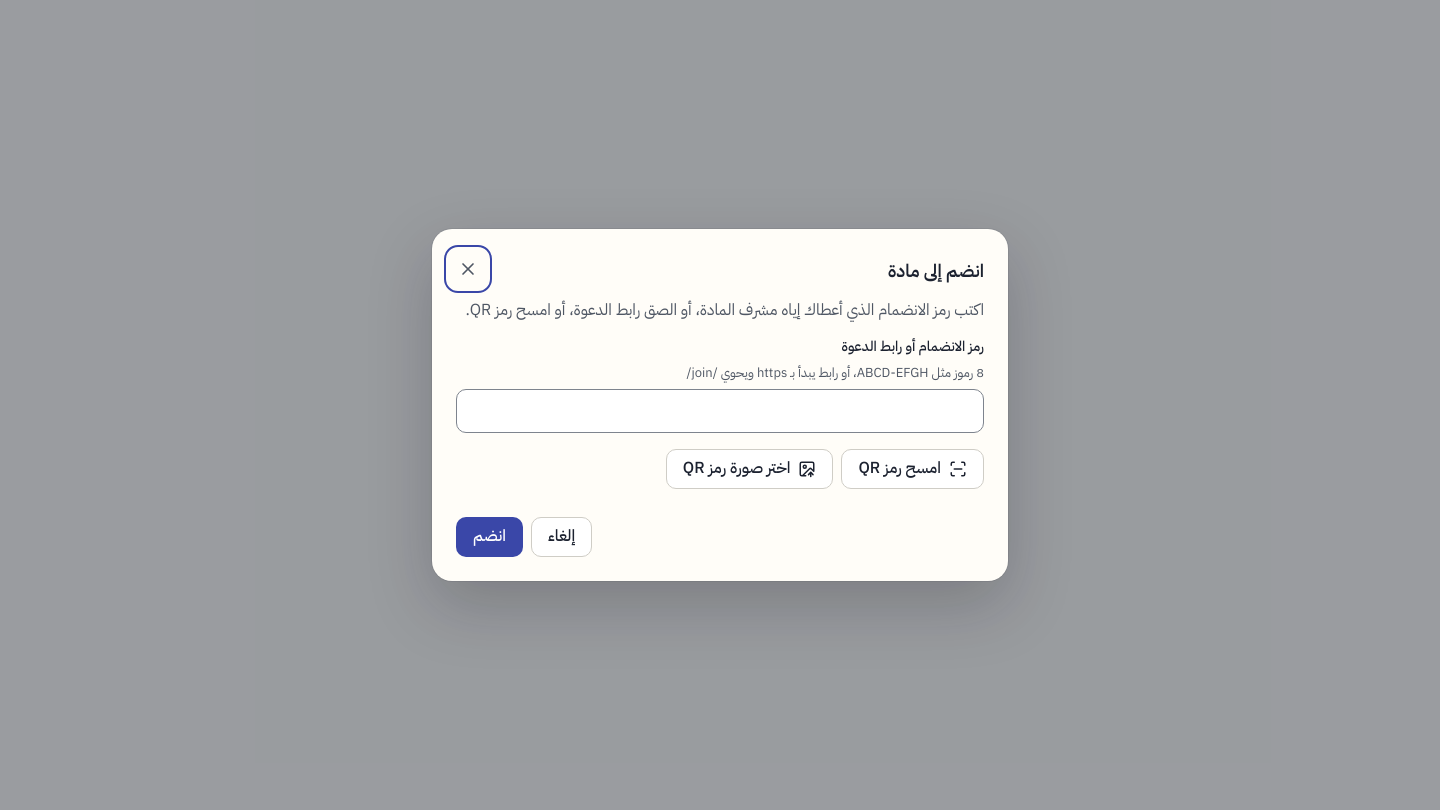
«انضم برمز أو QR» › joins with a typed class code (normalised) and says the request waits for an approver
Type "ab12-cd34" into the field labelled "رمز الانضمام أو رابط الدعوة".
click(720, 411); type("ab12-cd34")  # box [456,389,984,433]
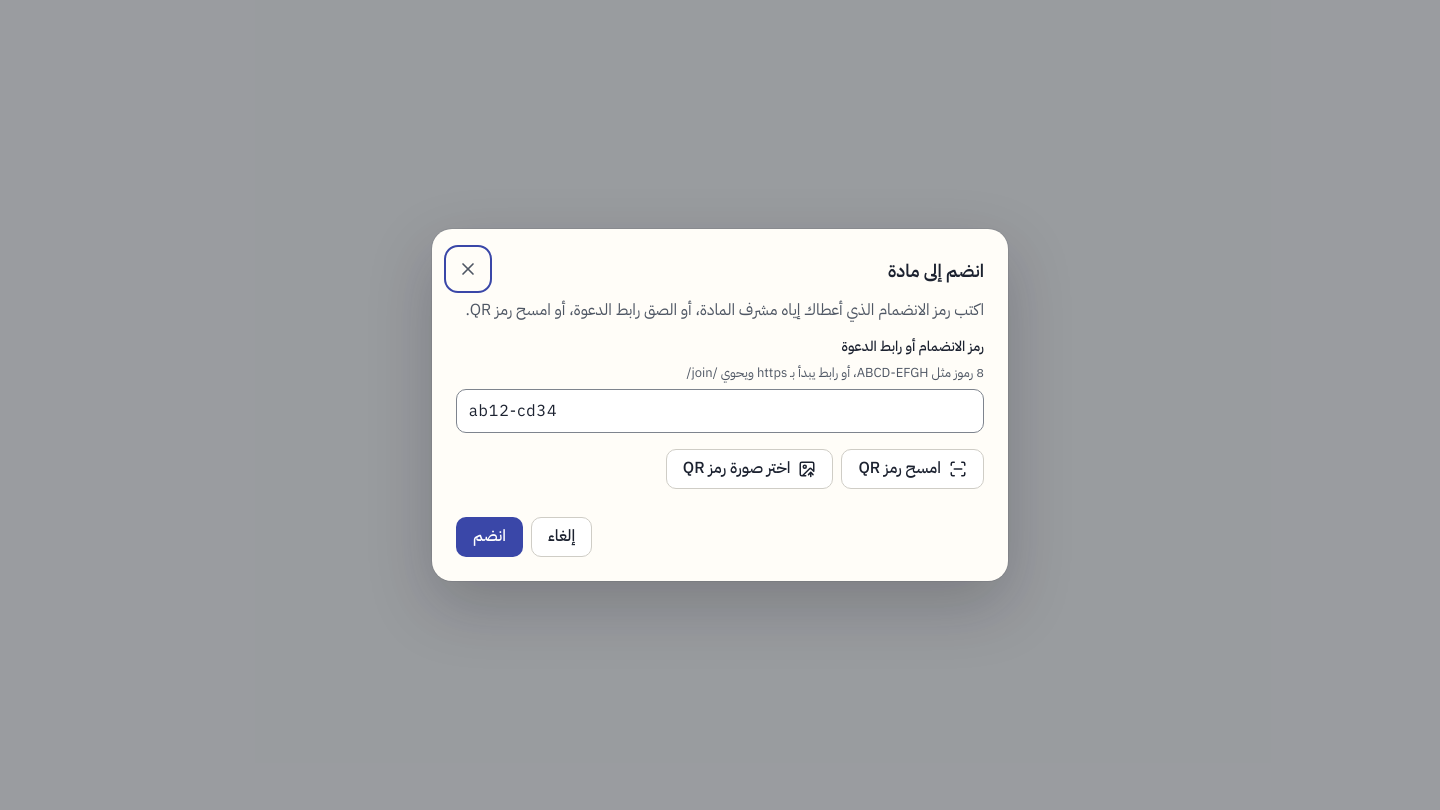
Click the button "انضم".
click(490, 537)  # box [456,517,523,557]
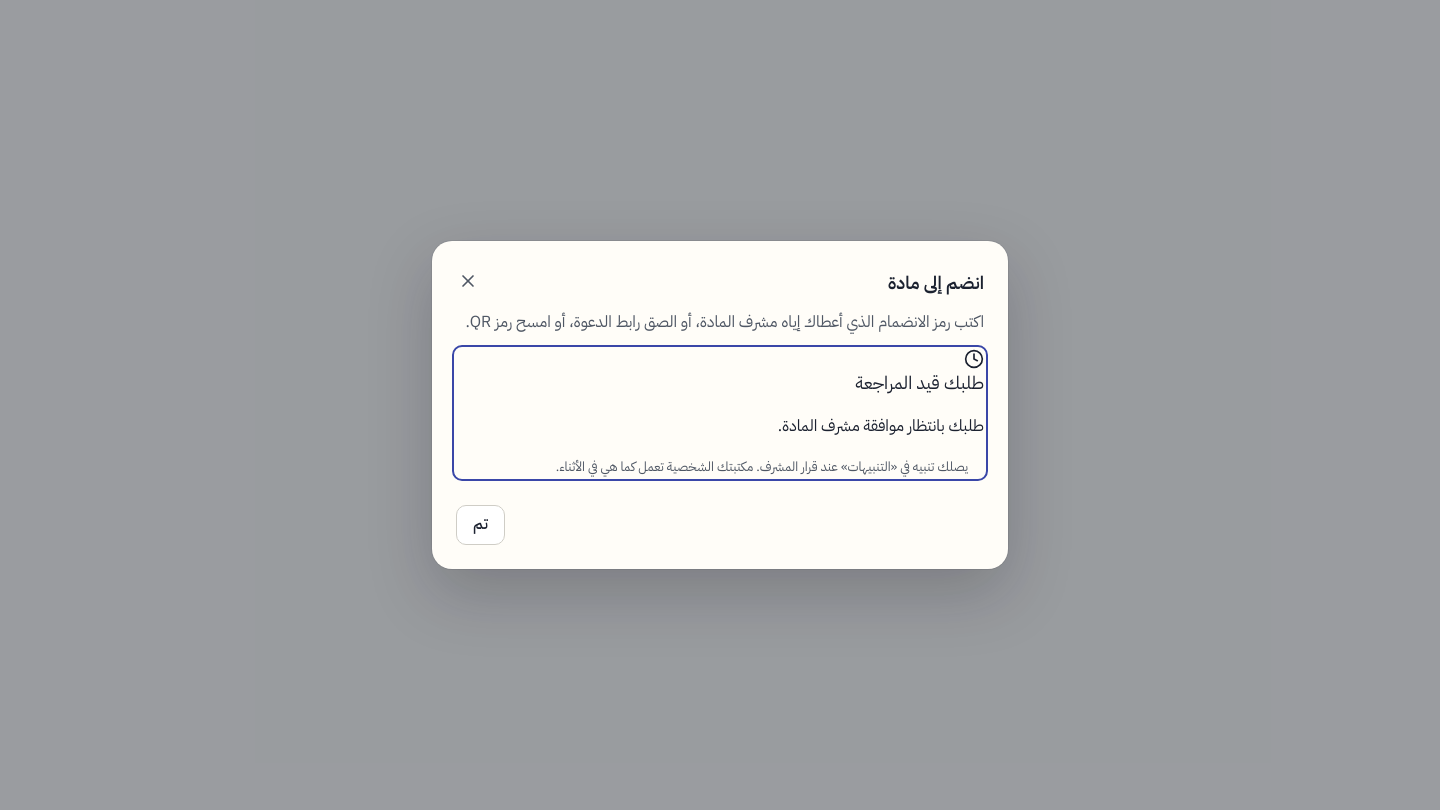
Now the text "طلبك قيد المراجعة" is shown, box [856,348,984,396]
Now the text "طلبك بانتظار موافقة مشرف المادة." is shown, box [778,414,984,438]
